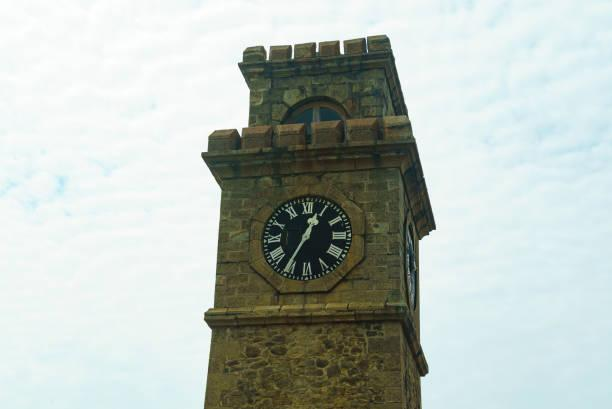clock: (257, 196, 355, 286), (403, 228, 421, 310)
